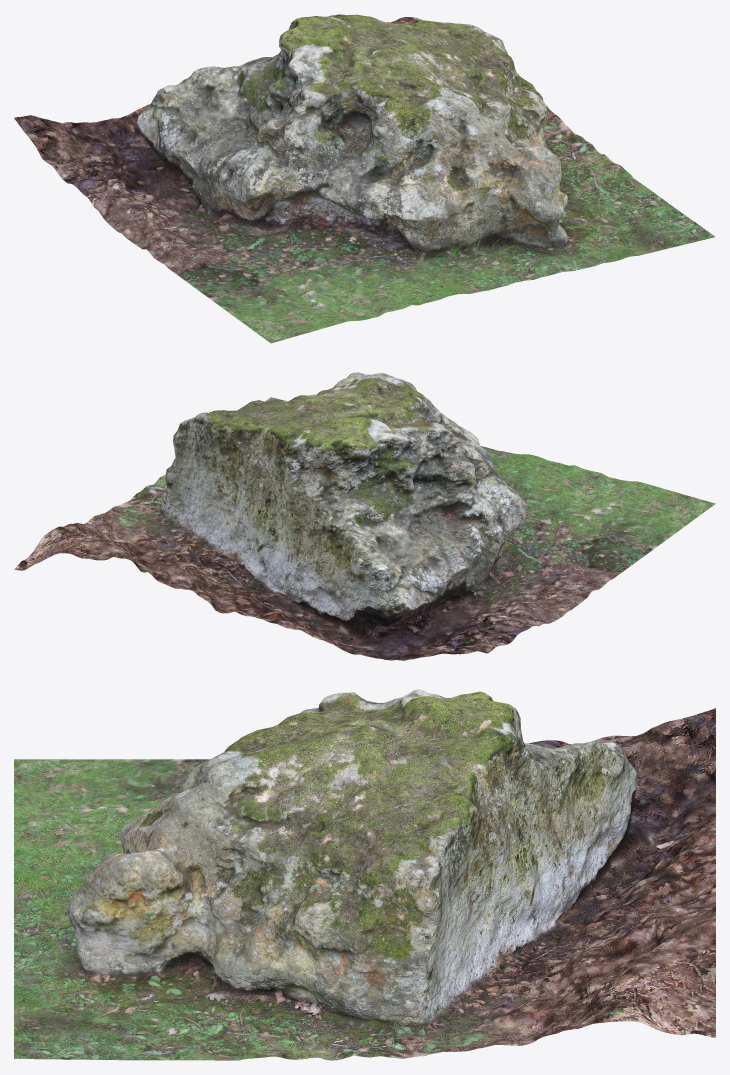
Rendered from rock1.glb.
3 renders of one model, top to bottom at view 1: azimuth 30°, elevation 25°; view 2: azimuth 150°, elevation 25°; view 3: azimuth 270°, elevation 25°, orthographic. The views are drawn at different scales.
Visible parts, largest first — view 1: mossy_rock; view 2: mossy_rock; view 3: mossy_rock.
Boxes of the visible parts, <box> form: mossy_rock: <box>14,14,715,343</box>; mossy_rock: <box>14,372,715,660</box>; mossy_rock: <box>14,689,715,1060</box>.
Bounding box in the file's own units: 6 × 1.92 × 6.
2 materials, 2 textured.
